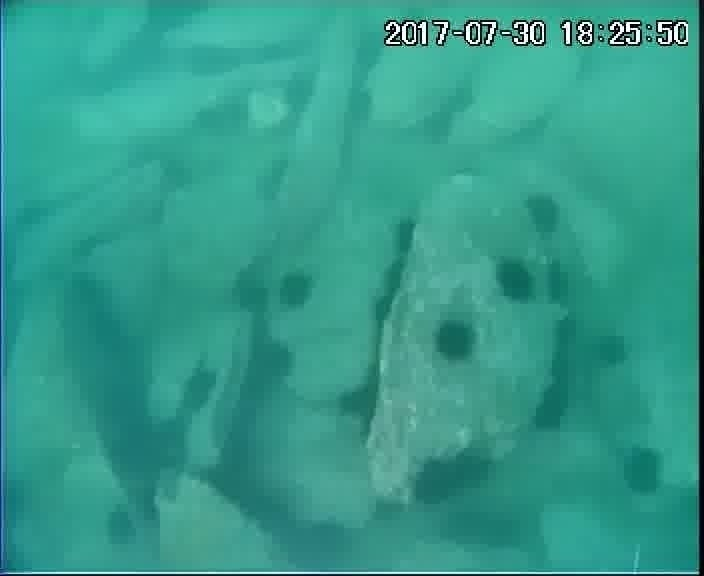echinus: (100, 416, 186, 490), (438, 500, 527, 557), (277, 516, 357, 571), (407, 453, 467, 510), (244, 336, 299, 392), (617, 444, 668, 500), (527, 379, 575, 437), (333, 377, 386, 429), (445, 444, 499, 495), (429, 315, 481, 367), (175, 362, 222, 419), (491, 256, 540, 308), (227, 266, 274, 319), (520, 190, 567, 239), (585, 329, 634, 374), (277, 69, 321, 117), (274, 268, 319, 314), (100, 504, 142, 551), (540, 258, 577, 311), (340, 83, 378, 129), (386, 214, 423, 260), (548, 312, 584, 352), (545, 345, 581, 385), (363, 289, 402, 324), (374, 261, 412, 295), (246, 175, 281, 207), (266, 153, 301, 185), (187, 94, 222, 126), (157, 159, 192, 191), (192, 45, 227, 77), (420, 107, 455, 139), (444, 85, 479, 117), (345, 38, 380, 70)
